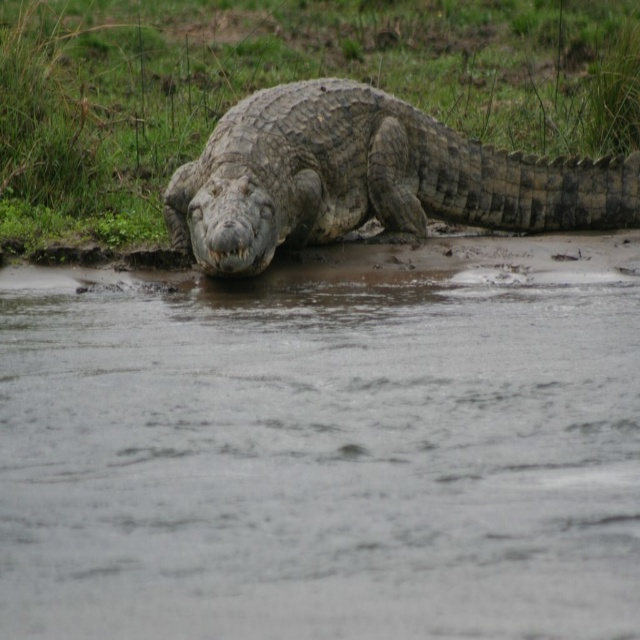Crocodile: (160, 75, 639, 275)
